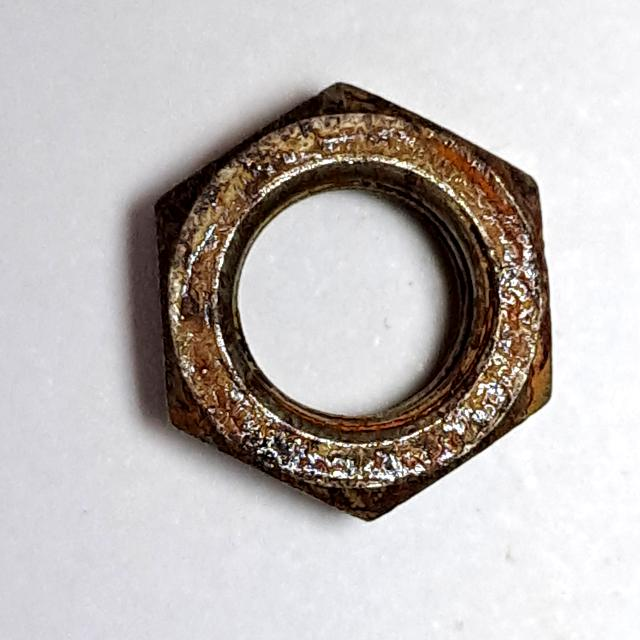Rust: (143, 68, 567, 542)
